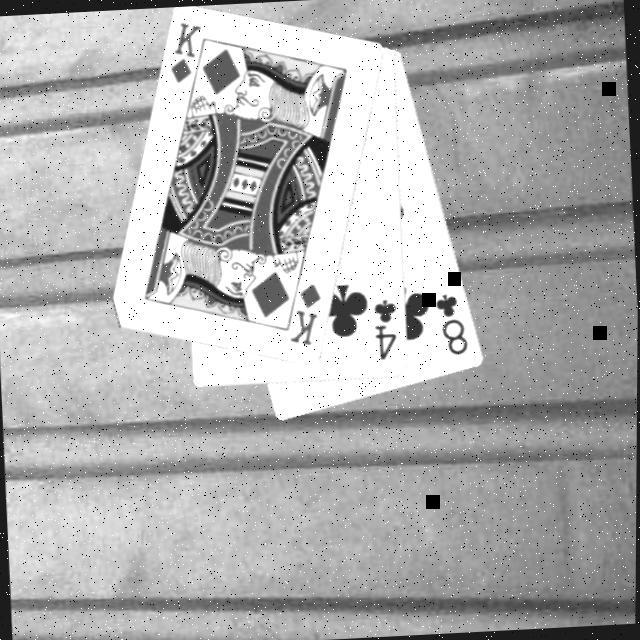4C: (369, 298, 400, 365)
8C: (429, 292, 472, 362)
KD: (282, 282, 326, 352), (163, 20, 206, 90)
